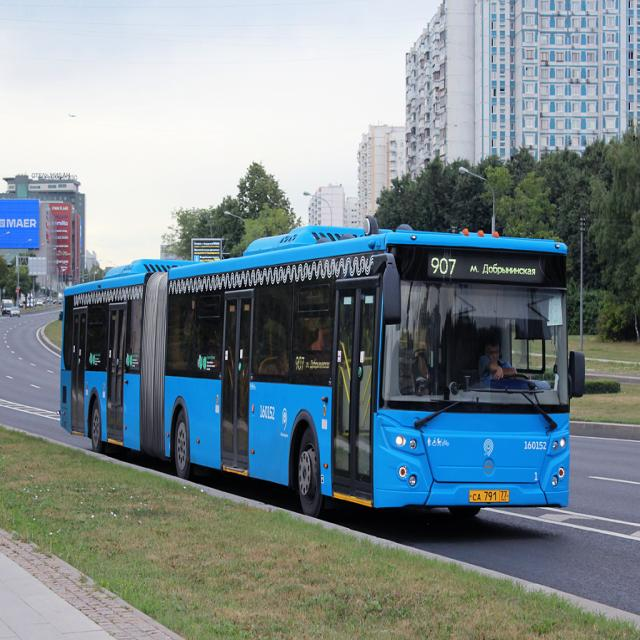number-of-bus: (430, 256, 459, 278)
